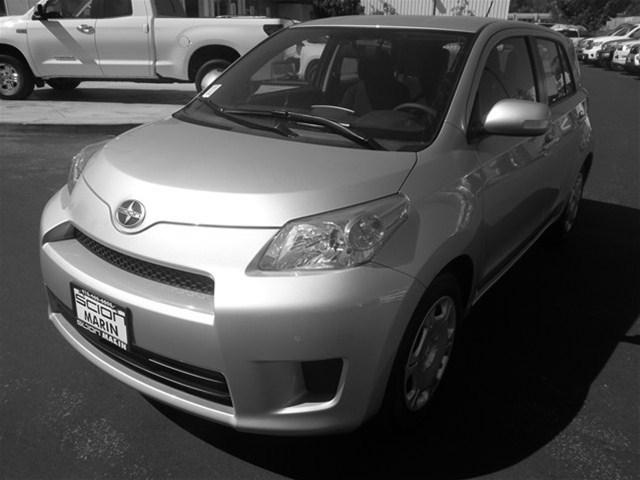car: (39, 15, 597, 438)
